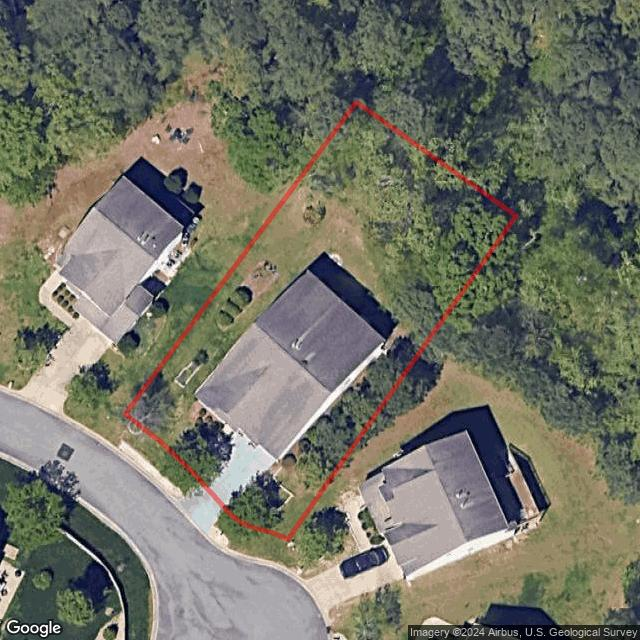Driveway: (200, 434, 276, 508)
Extra-Driveway: (172, 480, 229, 552)
Extra-Lawn: (107, 413, 199, 492), (215, 511, 288, 562)
Extra-Sidewalk: (102, 439, 183, 503), (224, 547, 275, 568)
House: (193, 269, 388, 461)
Lawn: (125, 102, 517, 537)
Other: (302, 103, 516, 335), (218, 261, 277, 331), (208, 425, 232, 458)
